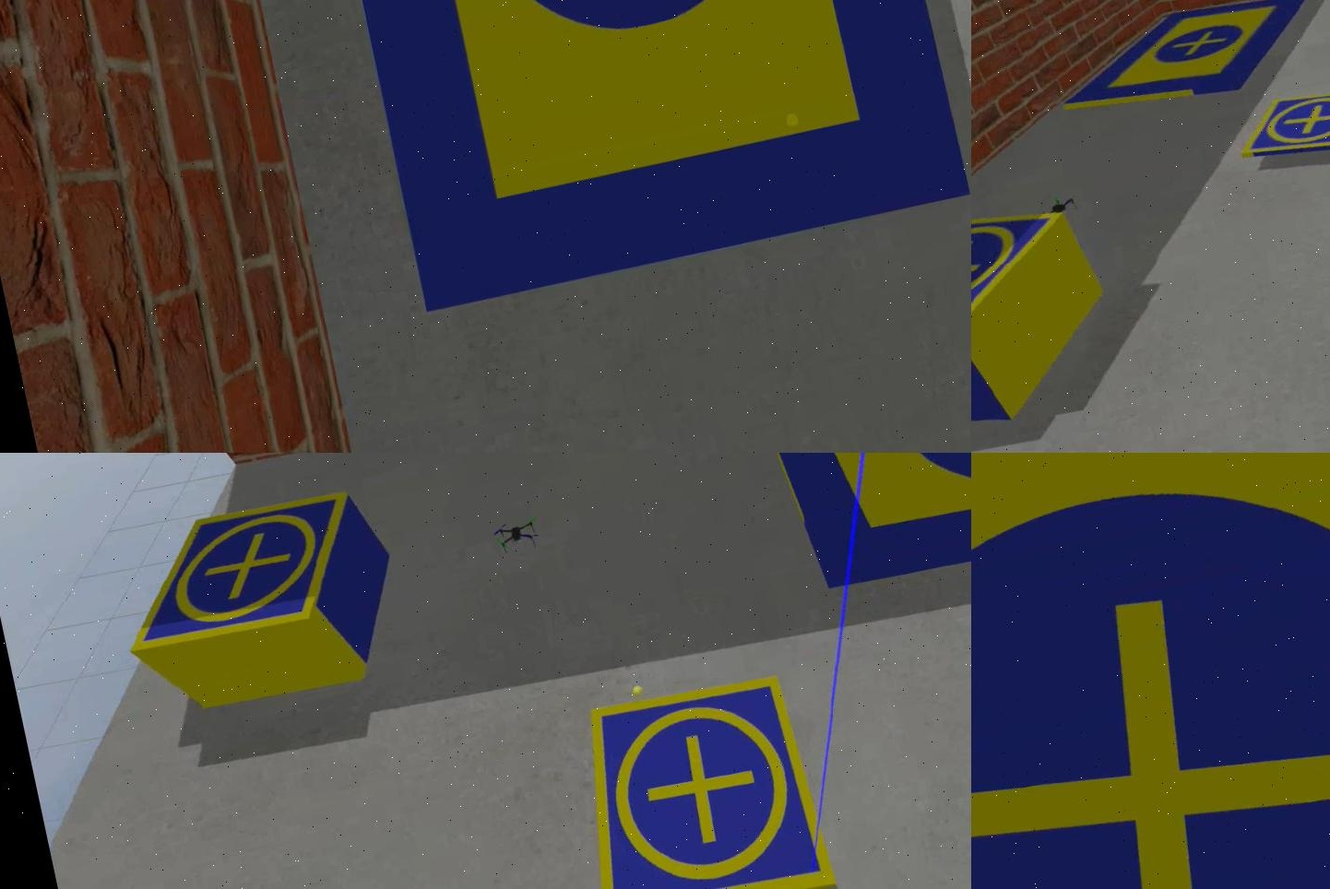large_base: (327, 1, 970, 317), (970, 454, 1328, 889), (1046, 1, 1327, 125)
small_base: (555, 668, 836, 889), (101, 484, 375, 659), (970, 195, 1086, 367), (1226, 83, 1328, 177)
